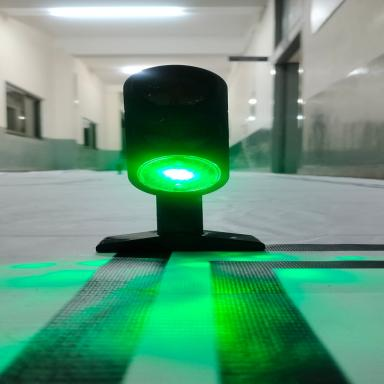green: (66, 51, 316, 276)
